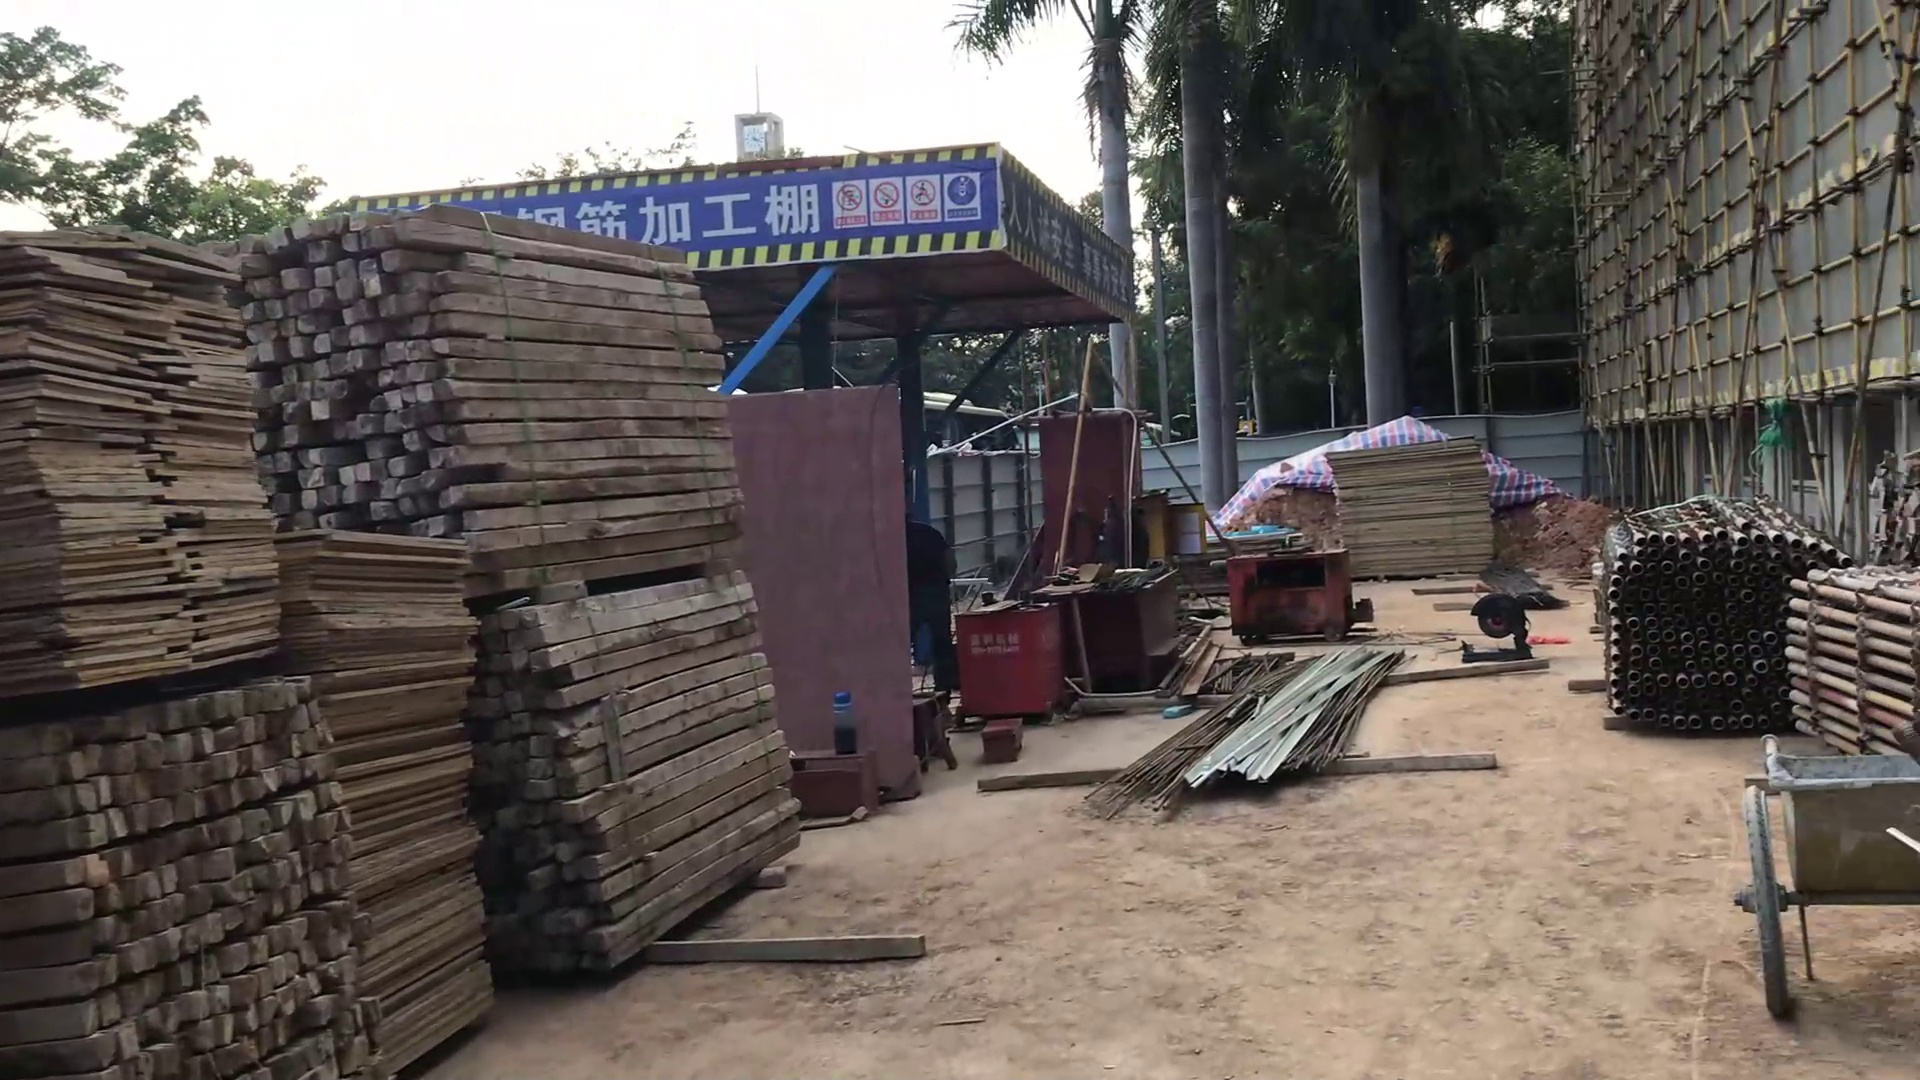board: (1, 224, 298, 717), (277, 520, 510, 1080), (1319, 433, 1503, 597)
cutter: (1460, 589, 1543, 671)
handcart: (1734, 731, 1920, 1027)
scaffold: (1576, 483, 1855, 750), (1772, 547, 1920, 752)
slogan: (992, 146, 1135, 316)
wood: (233, 200, 765, 595), (455, 550, 829, 1007), (1, 662, 393, 1080)
